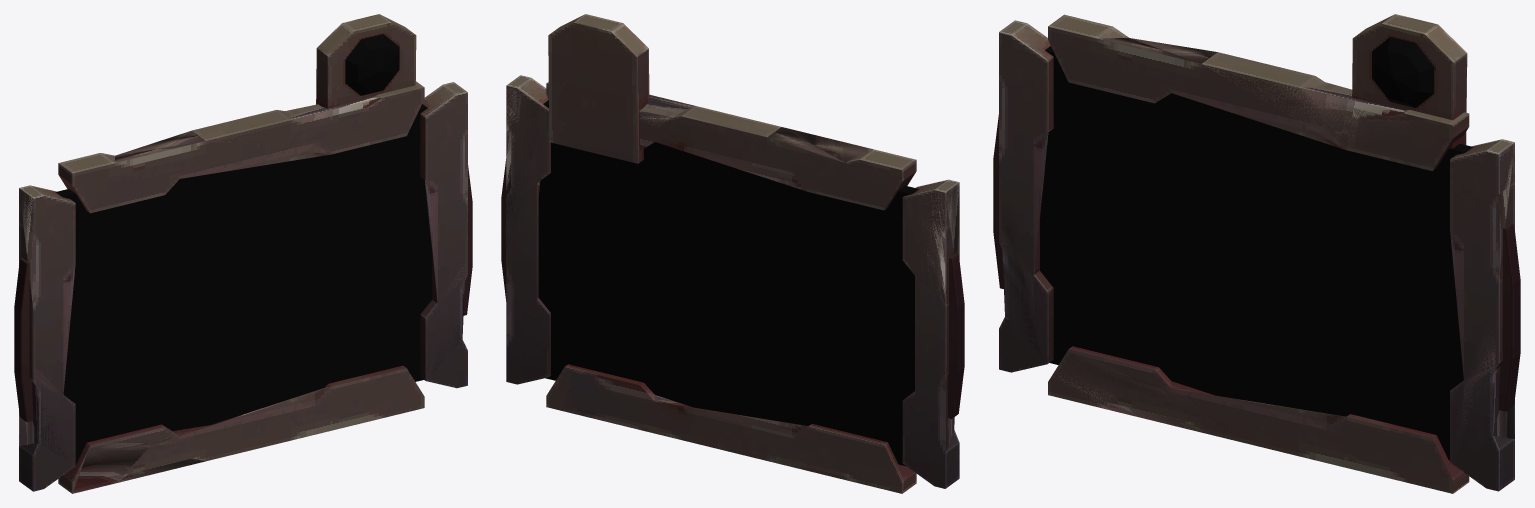
File: item_film_filter_brighten.glb
The picture shows the model from 3 angles, left to right: view 1: azimuth 30°, elevation 25°; view 2: azimuth 150°, elevation 25°; view 3: azimuth 330°, elevation 25°; orthographic projection. The views are drawn at different scales.
Parts seen in each view (by area): view 1: Cube, IndicatorTab; view 2: Cube, IndicatorTab; view 3: Cube, IndicatorTab.
Part boxes in pixels (left/top/right/bottom): Cube: left=14, top=81, right=472, bottom=493; IndicatorTab: left=316, top=14, right=416, bottom=108; Cube: left=501, top=75, right=964, bottom=493; IndicatorTab: left=548, top=14, right=649, bottom=163; Cube: left=993, top=14, right=1520, bottom=493; IndicatorTab: left=1352, top=14, right=1467, bottom=148.
Bounding box in the file's own units: 0.2824 × 0.2327 × 0.0219.
1 material, 1 textured.
